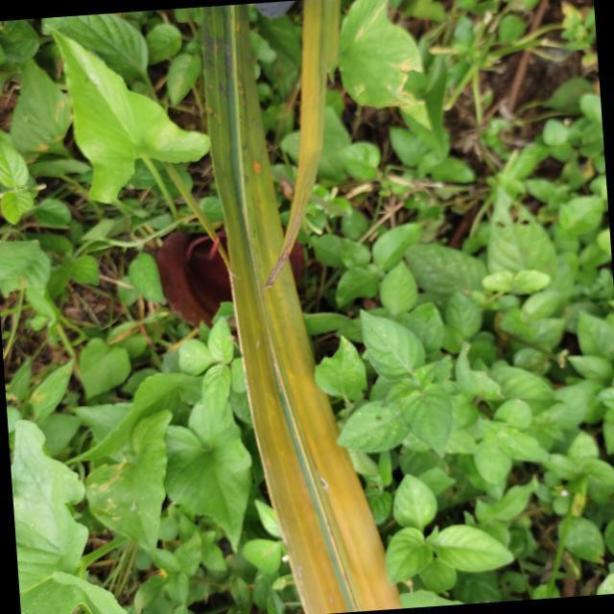Megnesium: (194, 0, 402, 614)
